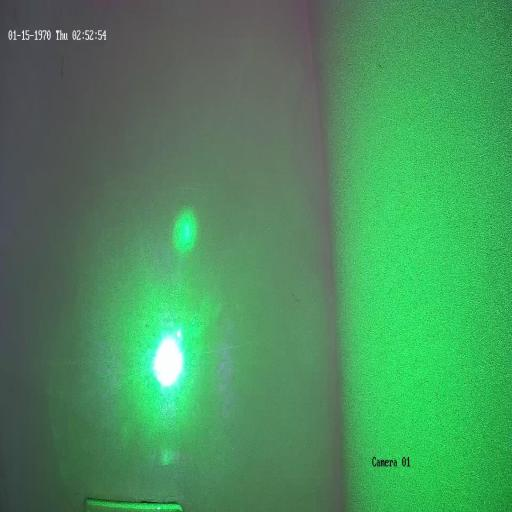laser: (146, 319, 196, 398)
